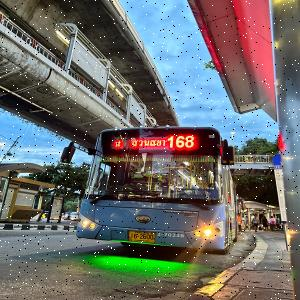BMTA-bus: (75, 126, 237, 264)
Bus Line Number: (165, 133, 195, 150)
Bus Side Number: (155, 230, 186, 239)
Destination Sign: (179, 188, 218, 200)
